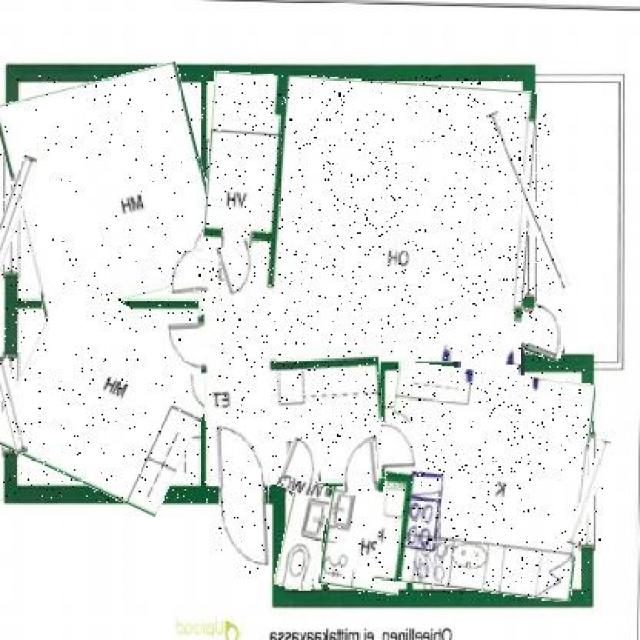door: (218, 418, 271, 574), (524, 306, 570, 360), (166, 317, 209, 374), (280, 440, 323, 494), (220, 242, 258, 296), (382, 423, 422, 471), (168, 249, 209, 294), (343, 443, 377, 495)
window: (504, 111, 554, 292), (0, 154, 28, 275), (574, 438, 603, 544), (0, 355, 22, 454)
zone: (201, 77, 534, 360), (4, 73, 216, 310), (378, 366, 590, 597), (3, 294, 215, 503), (205, 352, 383, 485), (323, 489, 409, 594), (280, 482, 326, 590)
